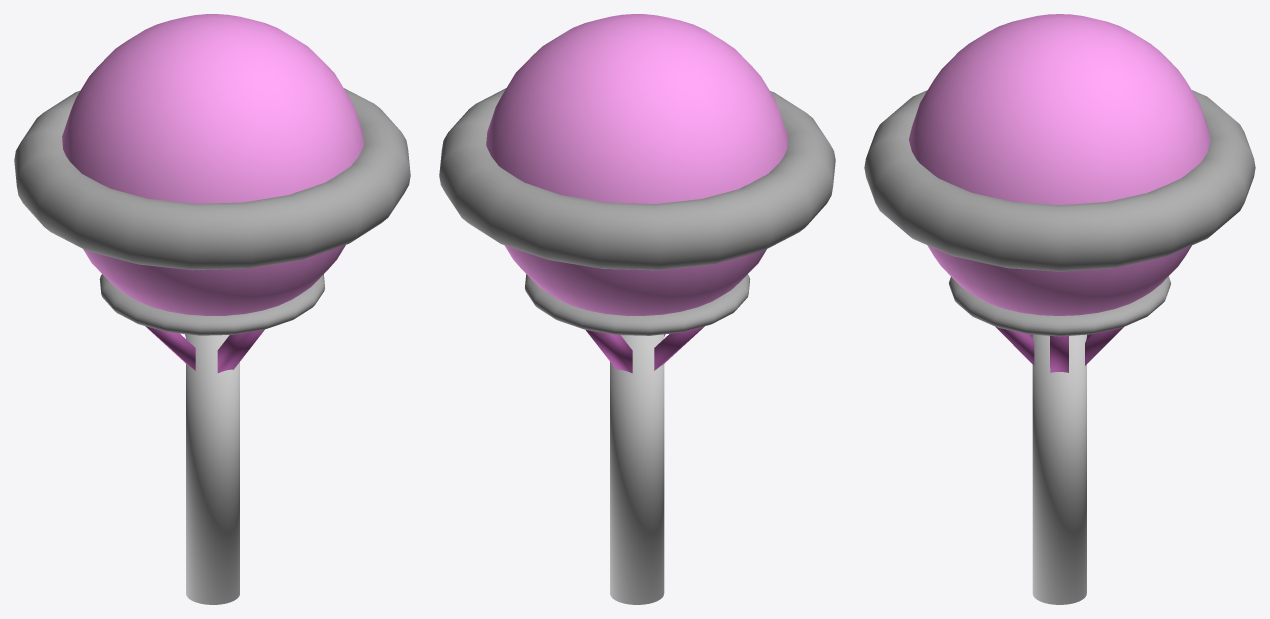
File: wipeoutPink.fbx
The picture shows the model from 3 angles, left to right: view 1: azimuth 30°, elevation 25°; view 2: azimuth 150°, elevation 25°; view 3: azimuth 270°, elevation 25°; orthographic projection.
Visible parts, largest first — view 1: slide1:wipeoutball:Cube.021; view 2: slide1:wipeoutball:Cube.021; view 3: slide1:wipeoutball:Cube.021.
Part boxes in pixels (x1,y1,x2,y2): slide1:wipeoutball:Cube.021: [14, 14, 410, 604]; slide1:wipeoutball:Cube.021: [439, 14, 835, 604]; slide1:wipeoutball:Cube.021: [864, 14, 1255, 604].
Bounding box in the file's own units: 12.87 × 19.98 × 12.53.
